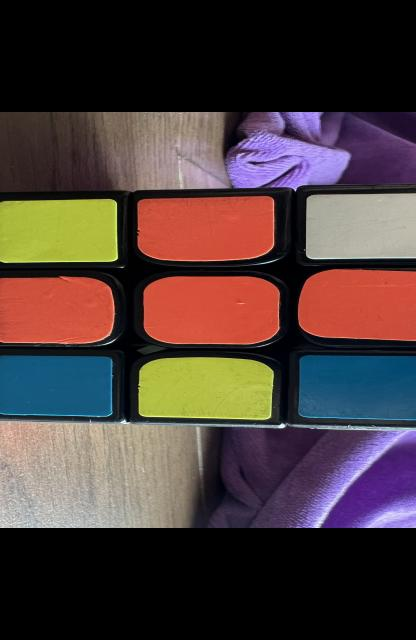Blue: (296, 355, 416, 420), (0, 356, 111, 417)
Orange: (143, 276, 280, 344), (136, 196, 273, 262), (296, 270, 416, 341), (0, 276, 115, 344)
White: (305, 193, 416, 259)
Yellow: (138, 357, 273, 420), (0, 199, 116, 262)
